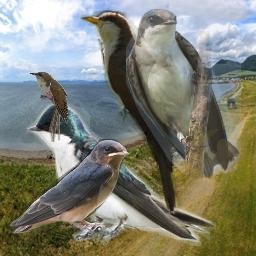Cuckoo: (80, 10, 182, 216), (29, 71, 68, 142)
Swallow: (26, 100, 216, 246), (126, 8, 241, 181), (8, 139, 131, 238)
